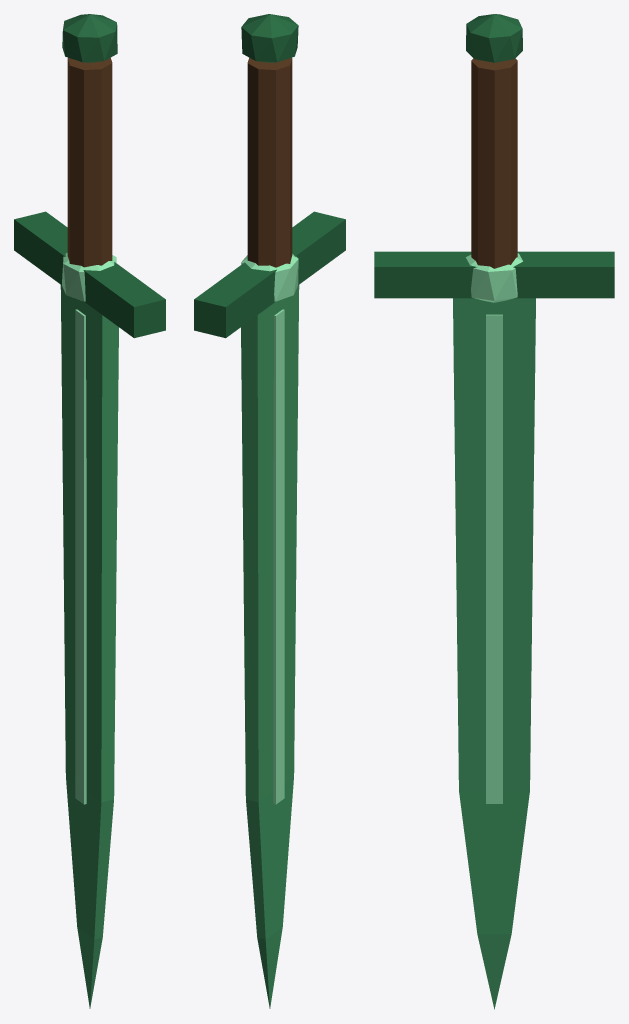
The model's file is held_adamant_sword.glb.
3 views of the same model, side by side, from view 1: azimuth 30°, elevation 25°; view 2: azimuth 150°, elevation 25°; view 3: azimuth 270°, elevation 25° (orthographic).
Visible parts, largest first — view 1: held_adamant_sword; view 2: held_adamant_sword; view 3: held_adamant_sword.
Part boxes in pixels (left/top/right/bottom): held_adamant_sword: left=14, top=14, right=165, bottom=1008; held_adamant_sword: left=194, top=14, right=345, bottom=1008; held_adamant_sword: left=374, top=14, right=614, bottom=1009.
Size of the model in its own units: 0.0468 by 0.897 by 0.196.
